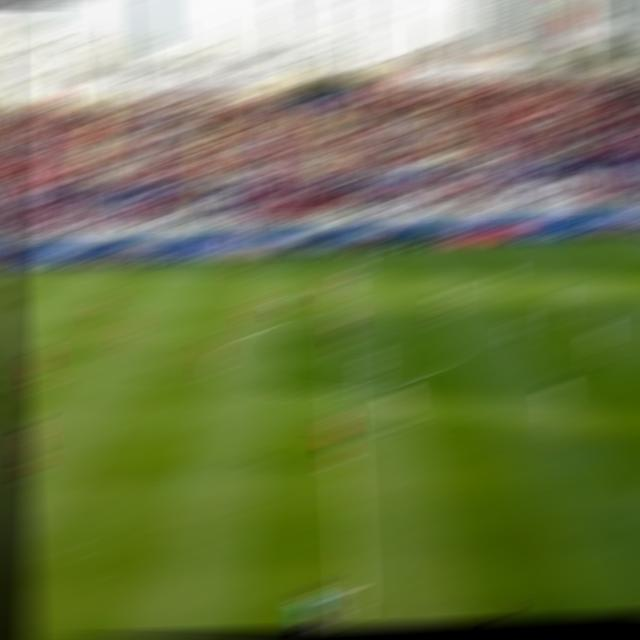halfcircle_bottom: (325, 379, 357, 401)
halfcircle_top: (321, 310, 353, 323)
midline_bottom_intersection: (332, 615, 370, 626)
midline_top_intersection: (320, 252, 347, 261)
